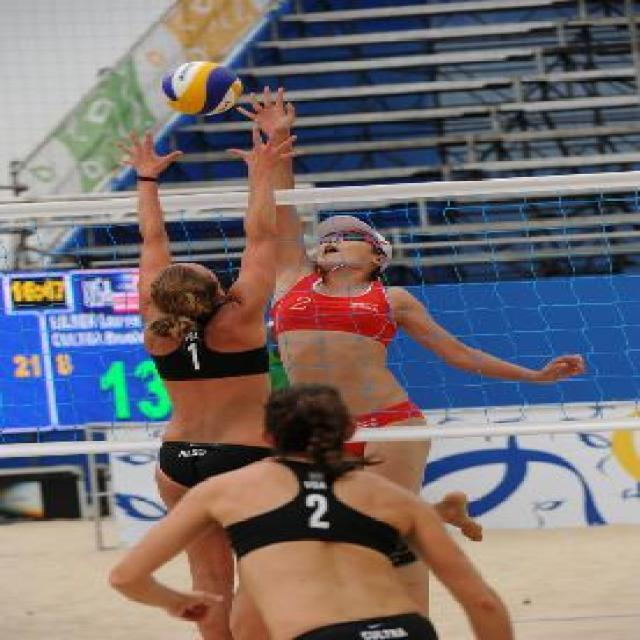volleyball: (160, 61, 241, 117)
